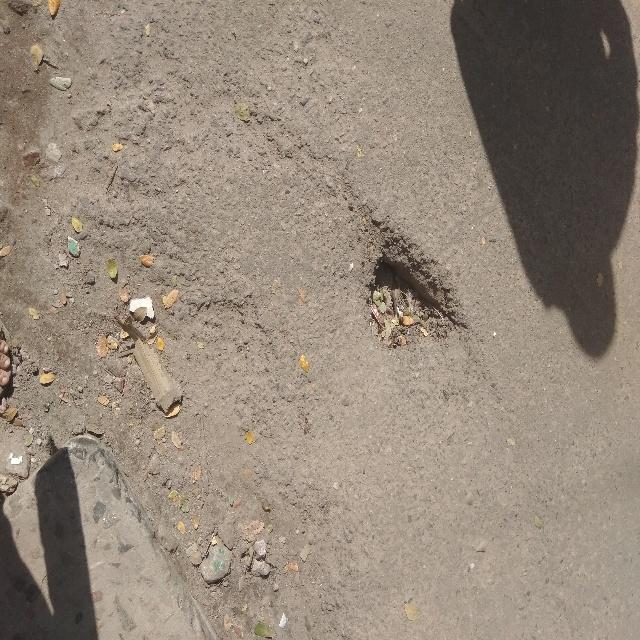Pothole: (346, 241, 470, 352)
Surface Erosion: (13, 30, 349, 636)
